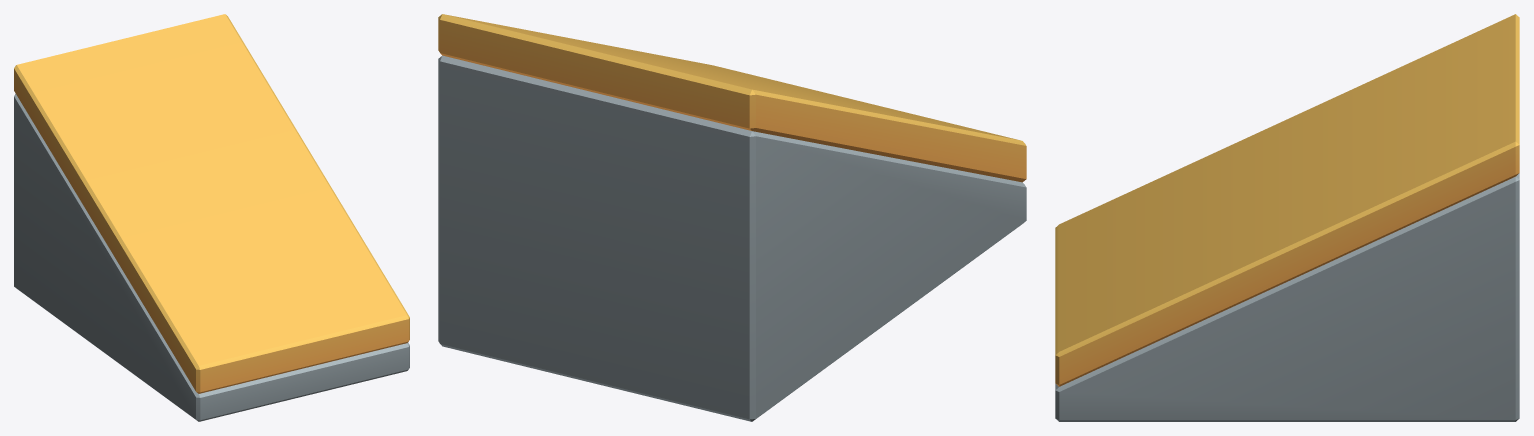
The model's file is platform_slope_4x6x4_yellow.glb.
3 renders of one model, left to right at view 1: azimuth 30°, elevation 25°; view 2: azimuth 150°, elevation 25°; view 3: azimuth 270°, elevation 25°, orthographic. The views are drawn at different scales.
Visible parts, largest first — view 1: platform_slope_4x6x4_yellow; view 2: platform_slope_4x6x4_yellow; view 3: platform_slope_4x6x4_yellow.
Part boxes in pixels (box(x1,y1,x2,y2)): platform_slope_4x6x4_yellow: box(14, 14, 409, 421); platform_slope_4x6x4_yellow: box(438, 14, 1026, 421); platform_slope_4x6x4_yellow: box(1055, 14, 1519, 421).
Bounding box in the file's own units: 4 × 4 × 6.
1 material, 1 textured.
